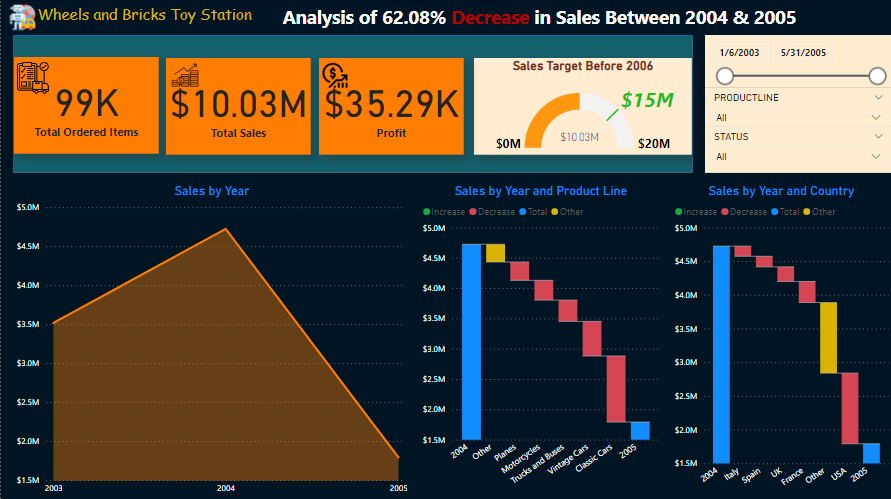

Layout of this report page (visuals, bound fields, positions):
{"tool":"powerbi","page":{"name":"Page 4","canvas":[1280,720],"ordinal":3},"visuals":[{"type":"image","box":[0,0,61.8,50.3],"z":0},{"type":"waterfallChart","title":"Sales by Year and Product Line","fields":{"Category":["Date.Date.Variation.Date Hierarchy.Year"],"Breakdown":["sales_data_sample.PRODUCTLINE"],"Y":["Sum(sales_data_sample.SALES)"]},"box":[600.7,263,350.7,457],"z":1000},{"type":"waterfallChart","title":"Sales by Year and Country","fields":{"Category":["Date.Date.Variation.Date Hierarchy.Year"],"Breakdown":["sales_data_sample.COUNTRY"],"Y":["Sum(sales_data_sample.SALES)"]},"box":[962.9,263,317.6,457],"z":2000},{"type":"textbox","box":[0,0,412.5,50.3],"z":3000},{"type":"shape","box":[17.2,50.3,977.2,198.3],"z":4000},{"type":"slicer","fields":{"Values":["sales_data_sample.PRODUCTLINE"]},"box":[1011.7,126.5,268.7,56],"z":5000},{"type":"slicer","fields":{"Values":["sales_data_sample.STATUS"]},"box":[1011.7,182.5,268.7,66.1],"z":6000},{"type":"slicer","fields":{"Values":["sales_data_sample.Date"]},"box":[1011.7,50.3,268.7,76.2],"z":7000},{"type":"areaChart","title":"Sales by Year","fields":{"Category":["Date.Date.Variation.Date Hierarchy.Year","Date.Date.Variation.Date Hierarchy.Quarter","Date.Date.Variation.Date Hierarchy.Month","Date.Date.Variation.Date Hierarchy.Day"],"Y":["Sum(sales_data_sample.SALES)"]},"box":[17.2,263,572,457],"z":8000},{"type":"card","fields":{"Values":["sales_data_sample.Total Ordered Items"]},"box":[18.7,81.9,208.4,139.4],"z":9000},{"type":"card","fields":{"Values":["sales_data_sample.Total Sales"]},"box":[237.1,83.4,208.4,139.4],"z":10000},{"type":"gauge","title":"Sales Target Before 2006","fields":{"TargetValue":["sales_data_sample.Goal before 2006"],"MaxValue":["sales_data_sample.Max"],"Y":["Sum(sales_data_sample.SALES)"]},"box":[679.8,83.4,313.3,139.4],"z":11000},{"type":"card","fields":{"Values":["sales_data_sample.Profit"]},"box":[457,83.4,208.4,139.4],"z":12000},{"type":"image","box":[17.2,83.4,57.5,57.5],"z":13000},{"type":"image","box":[240,83.4,48.9,48.9],"z":14000},{"type":"image","box":[457,83.4,46,48.9],"z":15000},{"type":"textbox","box":[399,0,881,50.3],"z":16000}]}

Visuals, with their boxes in screenshot pixels (x1, y1, x2, y2), scaled from the page's 1280x720 canvas onto the 891x499 screenshot:
image: <bbox>0, 0, 43, 35</bbox>
"Sales by Year and Product Line" waterfallChart: <bbox>418, 182, 662, 498</bbox>
"Sales by Year and Country" waterfallChart: <bbox>670, 182, 890, 498</bbox>
textbox: <bbox>0, 0, 287, 35</bbox>
shape: <bbox>12, 35, 692, 172</bbox>
slicer - sales_data_sample.PRODUCTLINE: <bbox>704, 88, 890, 126</bbox>
slicer - sales_data_sample.STATUS: <bbox>704, 126, 890, 172</bbox>
slicer - sales_data_sample.Date: <bbox>704, 35, 890, 88</bbox>
"Sales by Year" areaChart: <bbox>12, 182, 410, 498</bbox>
card - sales_data_sample.Total Ordered Items: <bbox>13, 57, 158, 153</bbox>
card - sales_data_sample.Total Sales: <bbox>165, 58, 310, 154</bbox>
"Sales Target Before 2006" gauge: <bbox>473, 58, 691, 154</bbox>
card - sales_data_sample.Profit: <bbox>318, 58, 463, 154</bbox>
image: <bbox>12, 58, 52, 98</bbox>
image: <bbox>167, 58, 201, 92</bbox>
image: <bbox>318, 58, 350, 92</bbox>
textbox: <bbox>278, 0, 890, 35</bbox>
